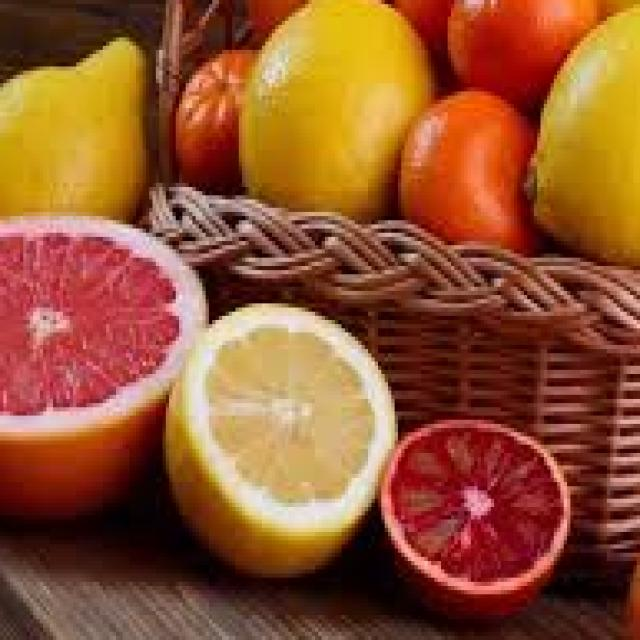inorganic: (0, 209, 208, 538), (186, 281, 383, 586), (243, 8, 449, 209), (393, 402, 579, 618), (9, 41, 172, 221), (397, 81, 553, 253), (533, 8, 640, 251), (176, 47, 276, 194)
